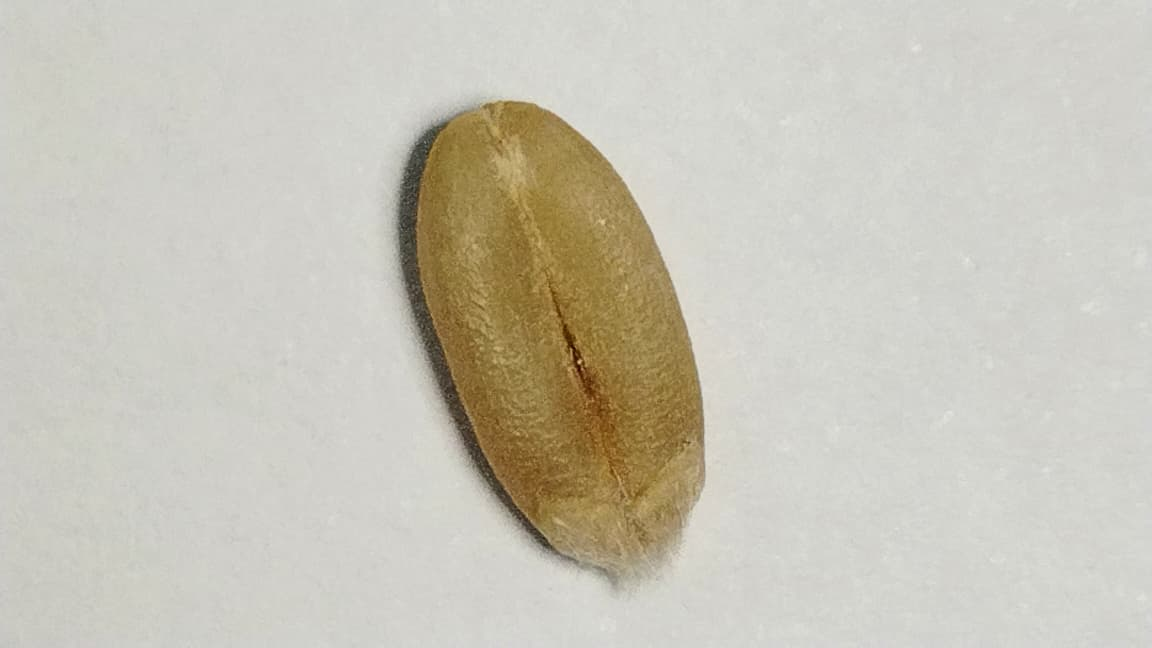healthy: (419, 102, 702, 545)
